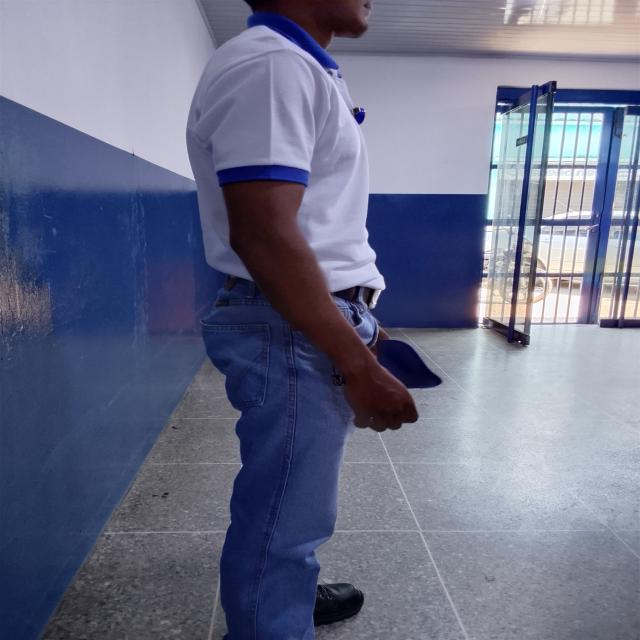uniforme_superior: (185, 12, 387, 293)
